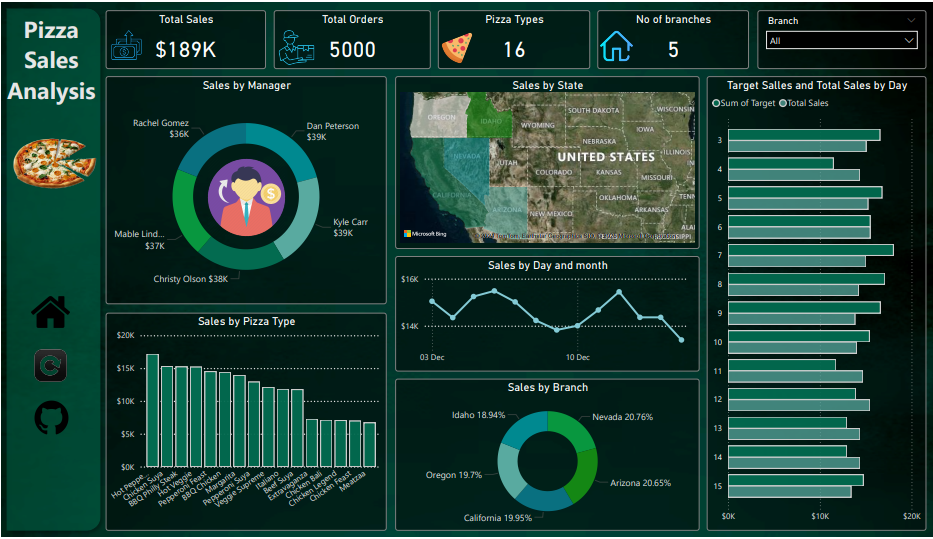

Layout of this report page (visuals, bound fields, positions):
{"tool":"powerbi","page":{"name":"Dashboard 1","canvas":[1400,800],"ordinal":0},"visuals":[{"type":"filledMap","title":" Sales by State","fields":{"Category":["Branch Data.Branch"]},"box":[590.6,110.2,456.7,258.3],"z":0},{"type":"lineClusteredColumnComboChart","title":"Sales by Pizza Type","fields":{"Category":["Sales.Pizza Type"],"Y":["Sales.Total Sales"],"Y2":["Sales.Total Sales"]},"box":[157.5,464.6,420.5,327.6],"z":1000},{"type":"slicer","fields":{"Values":["Sales.Branch"]},"box":[1133.9,11,253.5,88.2],"z":2000},{"type":"card","title":"Total Sales","fields":{"Values":["Sales.Total Sales"]},"box":[157.5,11,240,88.2],"z":3000},{"type":"card","title":"Pizza Types","fields":{"Values":["Sales.Pizza Type"]},"box":[655.1,11,228.3,88.2],"z":4000},{"type":"card","title":"Total Orders","fields":{"Values":["Sales.Total Orders"]},"box":[409.4,11,234.6,88.2],"z":5000},{"type":"donutChart","title":"Sales by Manager","fields":{"Category":["Branch Data.Manager"],"Y":["Sales.Total Sales"]},"box":[157.5,110.2,420.5,341.7],"z":6000},{"type":"clusteredBarChart","title":"Target Salles and Total Sales by Day","fields":{"Y":["Daily Target.Target","Sales.Total Sales"],"Category":["Daily Target.Day.Variation.Date Hierarchy.Month","Daily Target.Day.Variation.Date Hierarchy.Day"]},"box":[1058.3,110.2,329.1,681.9],"z":7000},{"type":"image","box":[303.9,212.6,127.6,155.9],"z":8000},{"type":"image","box":[409.4,34.6,66.1,64.6],"z":9000},{"type":"image","box":[157.5,29.9,61.4,66.1],"z":10000},{"type":"image","box":[655.1,37.8,56.7,58.3],"z":11000},{"type":"donutChart","title":"Sales by Branch","fields":{"Category":["Sales.Branch"],"Y":["Sales.Total Sales"]},"box":[590.6,563.8,456.7,228.3],"z":12000},{"type":"shape","box":[0,0,157.5,800],"z":13000},{"type":"lineChart","title":" Sales by Day and month","fields":{"Y":["Sales.Total Sales"],"Category":["Sales.Date"]},"box":[590.6,379.5,456.7,173.2],"z":14000},{"type":"image","box":[0,176.4,157.5,126],"z":15000},{"type":"card","title":"No of branches","fields":{"Values":["Branch Data.Branch"]},"box":[894.5,11,226.8,88.2],"z":16000},{"type":"image","box":[22,429.9,103.9,67.7],"z":17000},{"type":"image","box":[12.6,510.2,121.3,67.7],"z":18000},{"type":"image","box":[17.3,592.1,116.5,59.8],"z":19000},{"type":"image","box":[894.5,34.6,56.7,58.3],"z":20000}]}

Visuals, with their boxes in screenshot pixels (x1, y1, x2, y2), scaled from the page's 1400x800 canvas onto the 933x539 screenshot:
" Sales by State" filledMap: (394, 74, 698, 248)
"Sales by Pizza Type" lineClusteredColumnComboChart: (105, 313, 385, 534)
slicer - Sales.Branch: (756, 7, 925, 67)
"Total Sales" card: (105, 7, 265, 67)
"Pizza Types" card: (437, 7, 589, 67)
"Total Orders" card: (273, 7, 429, 67)
"Sales by Manager" donutChart: (105, 74, 385, 304)
"Target Salles and Total Sales by Day" clusteredBarChart: (705, 74, 925, 534)
image: (203, 143, 288, 248)
image: (273, 23, 317, 67)
image: (105, 20, 146, 65)
image: (437, 25, 474, 65)
"Sales by Branch" donutChart: (394, 380, 698, 534)
shape: (0, 0, 105, 538)
" Sales by Day and month" lineChart: (394, 256, 698, 372)
image: (0, 119, 105, 204)
"No of branches" card: (596, 7, 747, 67)
image: (15, 290, 84, 335)
image: (8, 344, 89, 389)
image: (12, 399, 89, 439)
image: (596, 23, 634, 63)
